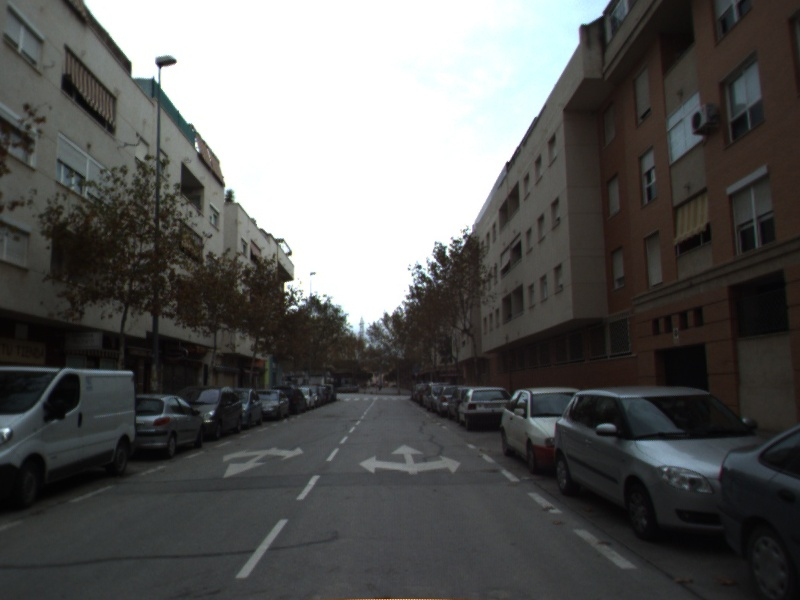STRAIGHT_LEFT_RIGHT: (356, 442, 464, 476)
